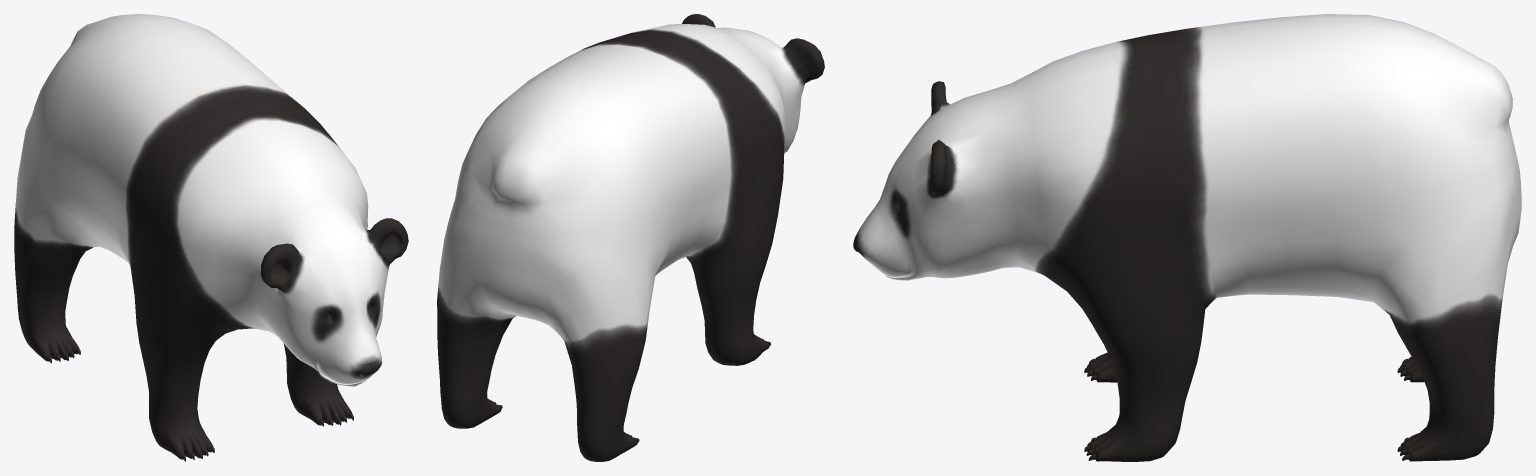
File: panda.glb
3 views of the same model, side by side, from view 1: azimuth 30°, elevation 25°; view 2: azimuth 150°, elevation 25°; view 3: azimuth 270°, elevation 25° (orthographic). The views are drawn at different scales.
Parts seen in each view (by area): view 1: Object_2; view 2: Object_2; view 3: Object_2.
Part boxes in pixels (bbox=[...]): Object_2: bbox=[14, 14, 408, 461]; Object_2: bbox=[437, 14, 824, 461]; Object_2: bbox=[853, 14, 1521, 461].
Bounding box in the file's own units: 1.64 × 2.56 × 4.
1 material, 1 textured.
